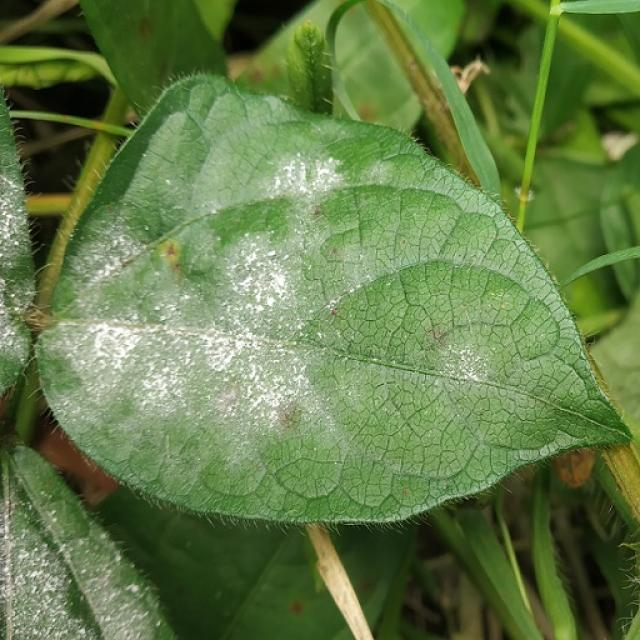Blackgram: (40, 75, 629, 522)
Powdery_Mildew: (102, 303, 301, 440), (389, 304, 523, 397), (59, 549, 162, 640), (212, 231, 296, 321), (216, 245, 302, 327), (74, 316, 169, 390), (260, 148, 347, 205), (10, 525, 69, 604), (81, 237, 139, 292), (2, 197, 31, 268), (119, 578, 153, 613), (265, 249, 277, 260)
